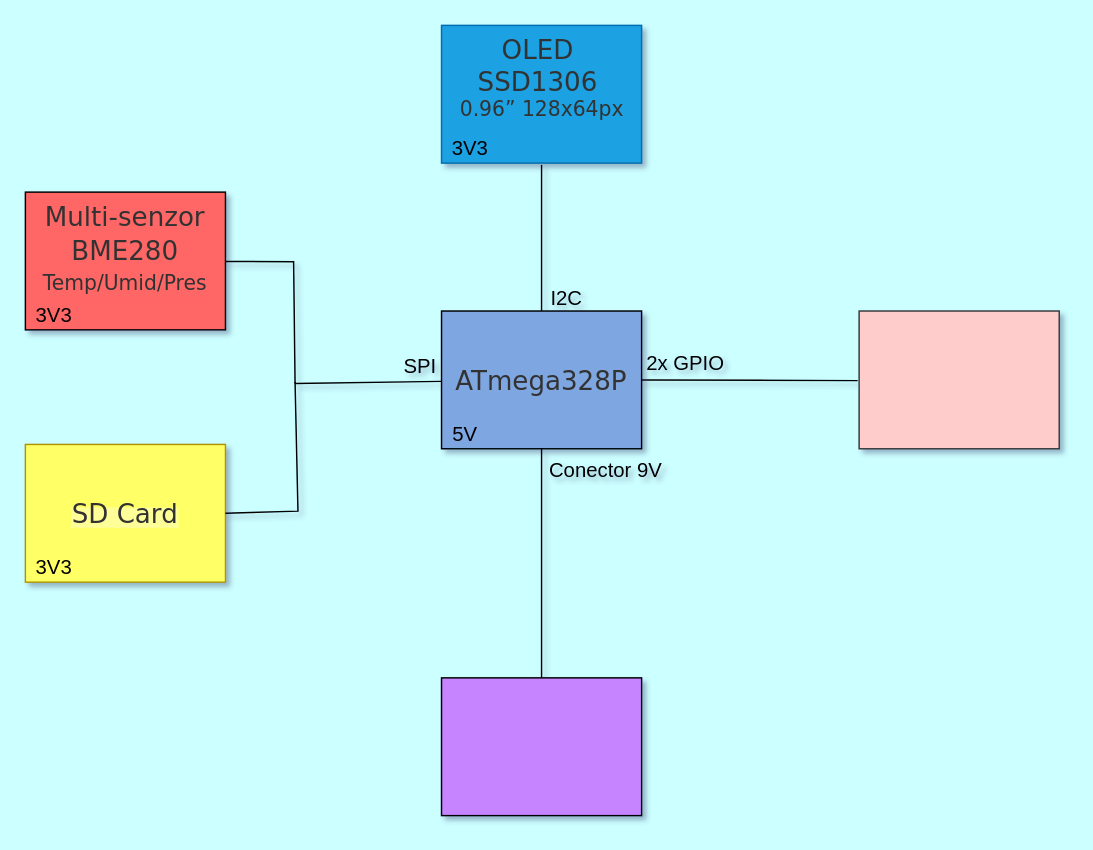
Some shapes in this 1093 by 850 pixel diagram are drawn without their labels. Each missing label, with the centre of its shape:
"Baterie 9V" belongs at point 541,746.
"Butoane" belongs at point 958,379.
